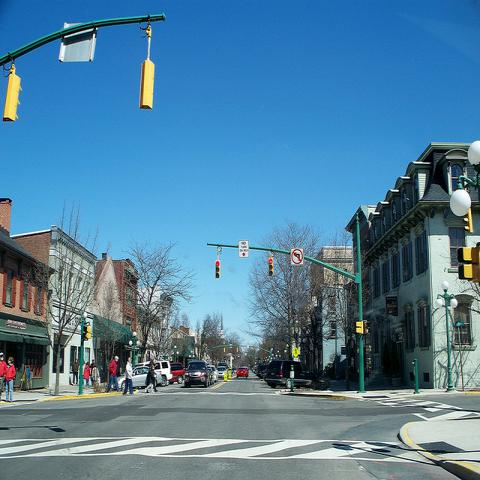car: (265, 360, 319, 388), (184, 362, 210, 388), (167, 360, 186, 386), (131, 367, 148, 387), (206, 365, 218, 383), (216, 366, 229, 379), (235, 368, 248, 378), (206, 368, 214, 384), (260, 365, 268, 379)
